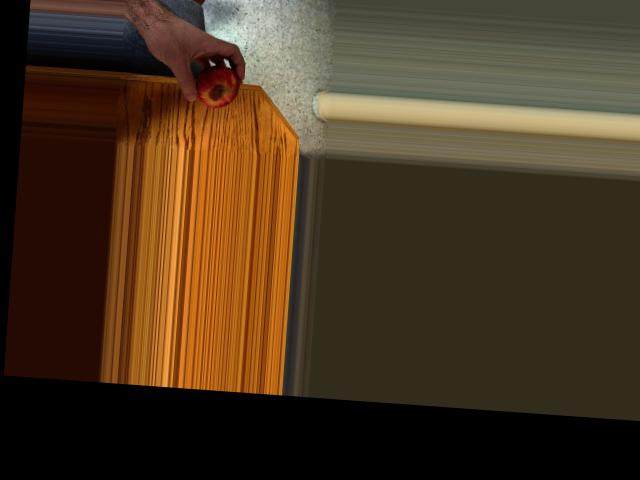apple: (191, 64, 243, 109)
